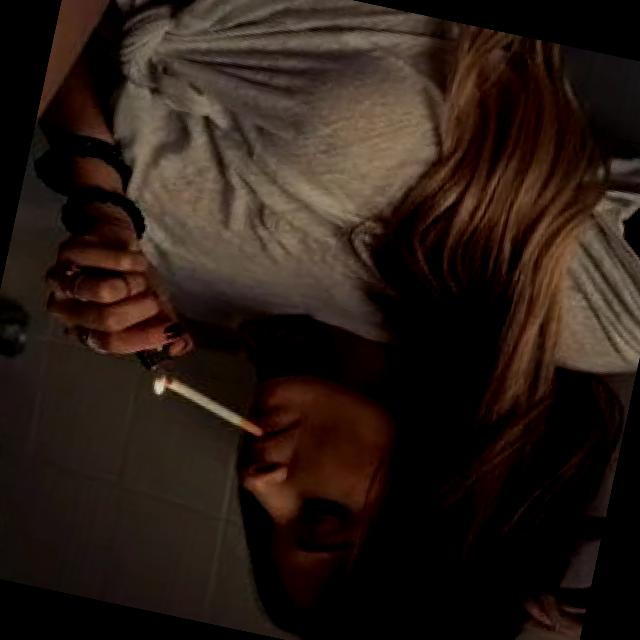smoke: (146, 376, 280, 450)
